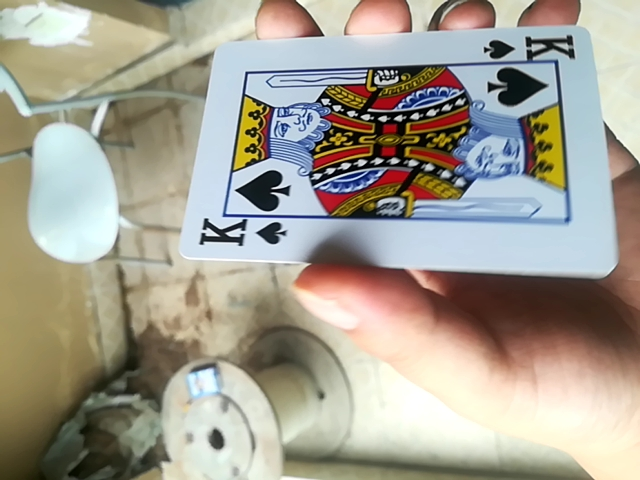ht k: (178, 23, 614, 277)
